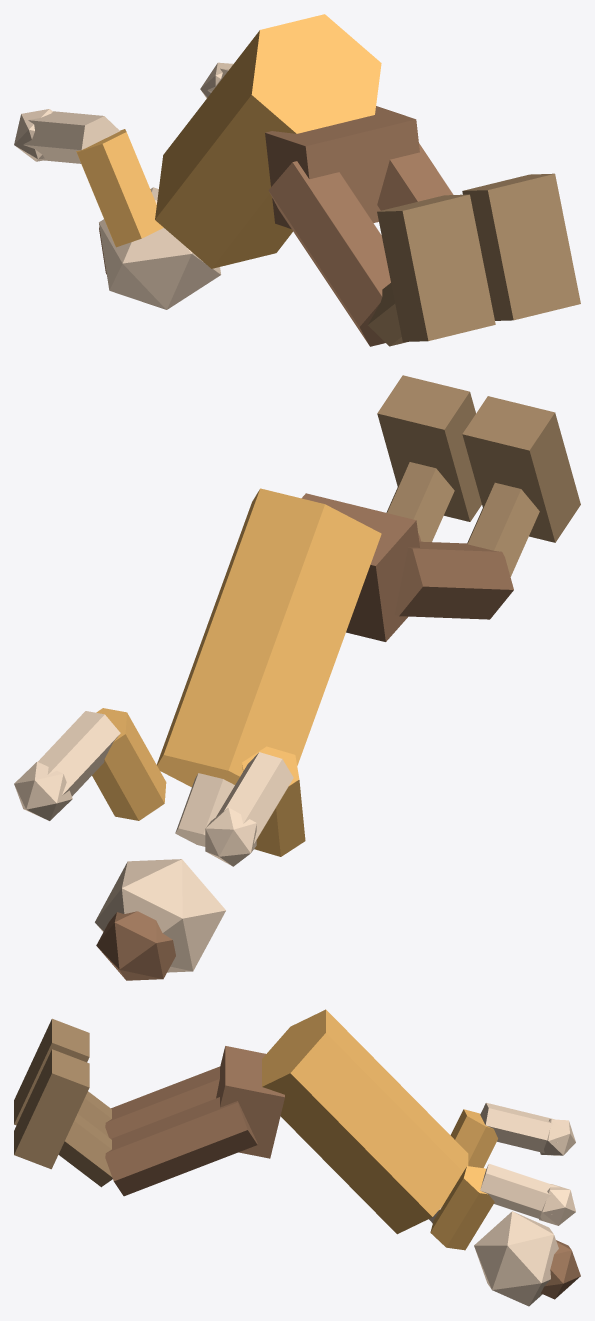
The model's file is pose_dodge_roll_21.glb.
3 views of the same model, one above another, from view 1: azimuth 30°, elevation 25°; view 2: azimuth 150°, elevation 25°; view 3: azimuth 270°, elevation 25° (orthographic). The views are drawn at different scales.
Parts seen in each view (by area): view 1: pose; view 2: pose; view 3: pose.
Part boxes in pixels (x1=…): pose: x1=14, y1=14, x2=580, y2=346; pose: x1=14, y1=375, x2=580, y2=980; pose: x1=14, y1=1009, x2=580, y2=1306.
Size of the model in its own units: 0.4876 by 0.7564 by 1.39.
